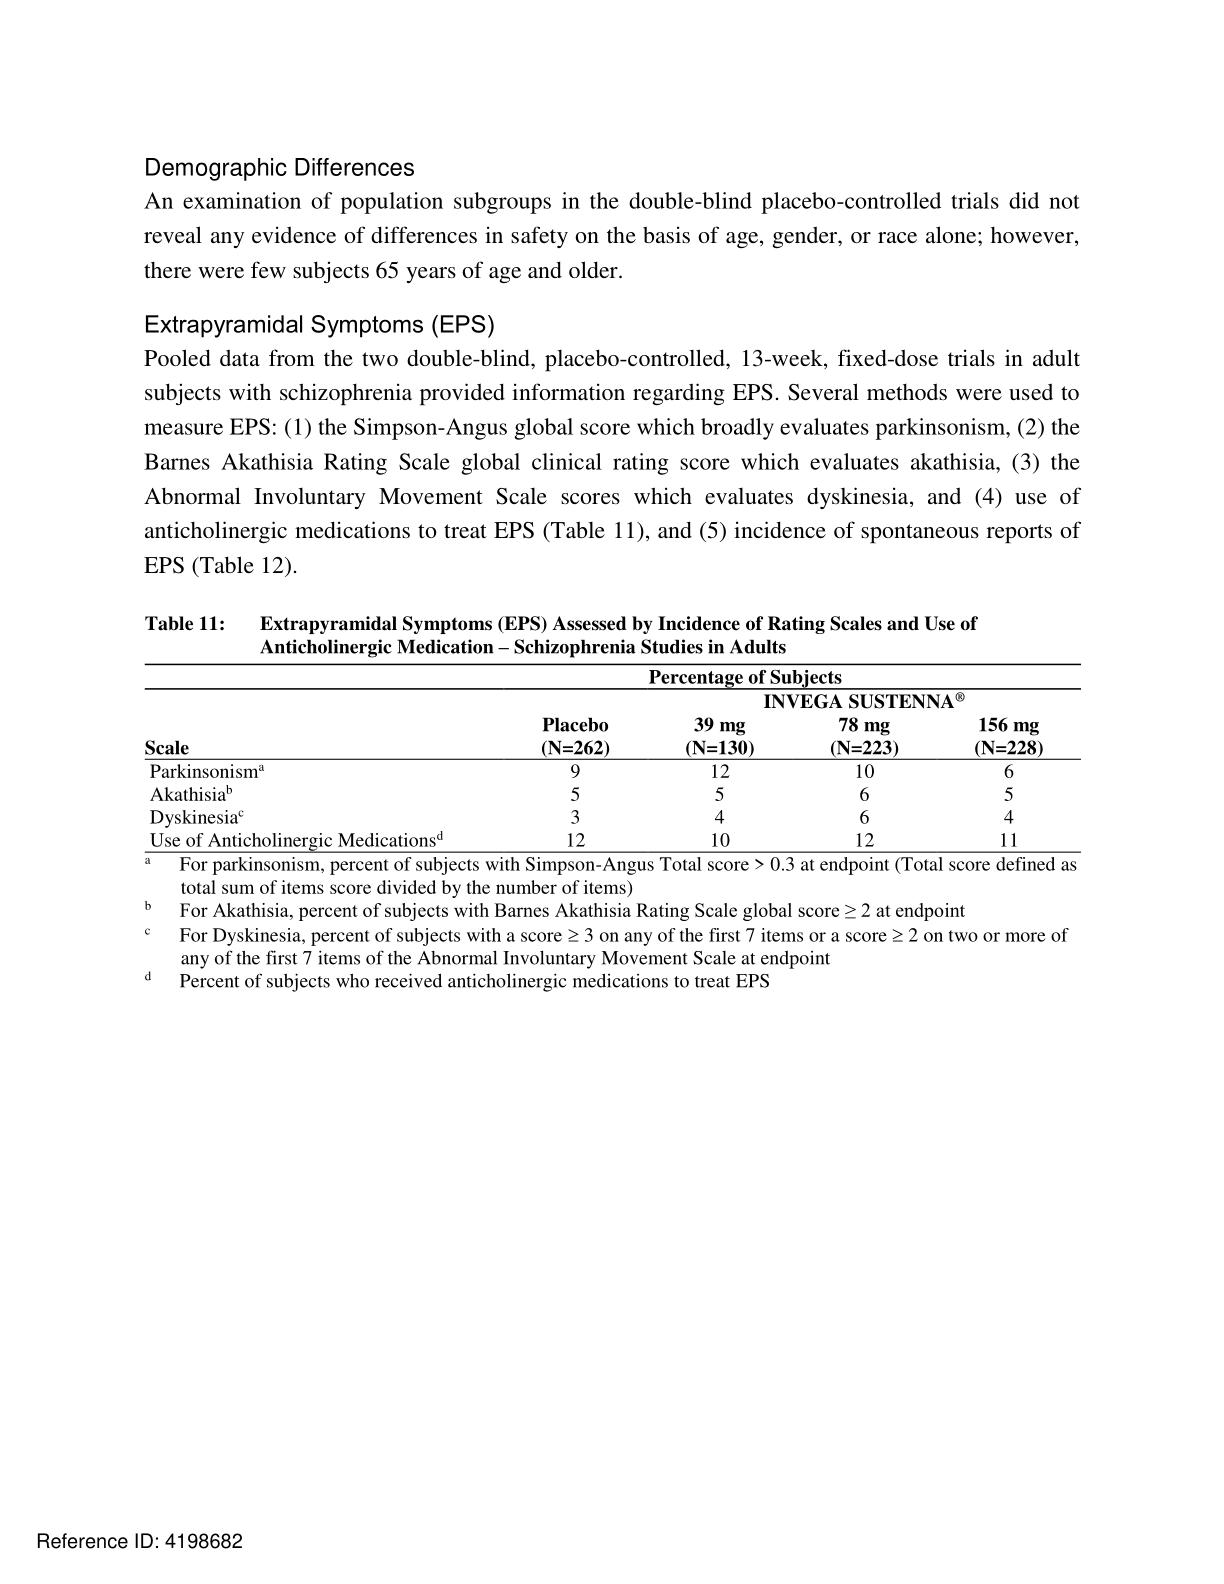partial_lined_merged_cells: (141, 660, 1084, 855)
